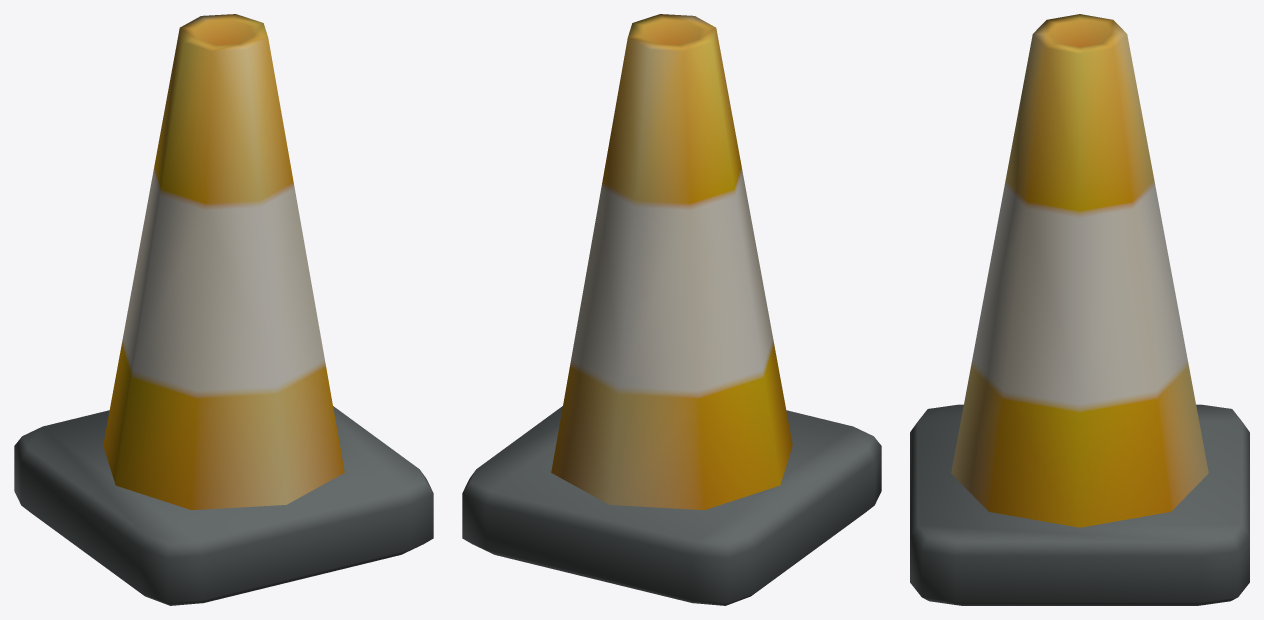
File: ObstacleWorkCone_Death.glb
The picture shows the model from 3 angles, left to right: view 1: azimuth 30°, elevation 25°; view 2: azimuth 150°, elevation 25°; view 3: azimuth 270°, elevation 25°; orthographic projection. The views are drawn at different scales.
Parts seen in each view (by area): view 1: RoadWorkCone; view 2: RoadWorkCone; view 3: RoadWorkCone.
Part boxes in pixels (x1,y1,x2,y2): RoadWorkCone: (14,14,433,605); RoadWorkCone: (462,14,881,605); RoadWorkCone: (910,14,1249,605).
Size of the model in its own units: 0.6196 by 1.01 by 0.6196.
